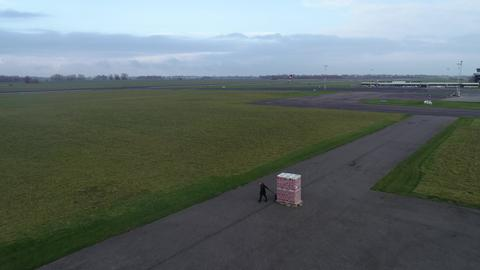RockwoolPallet: (276, 172, 300, 204)
